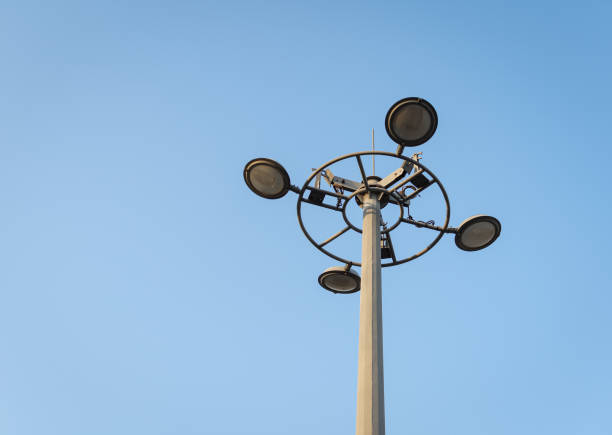light_pole: (353, 198, 386, 435)
